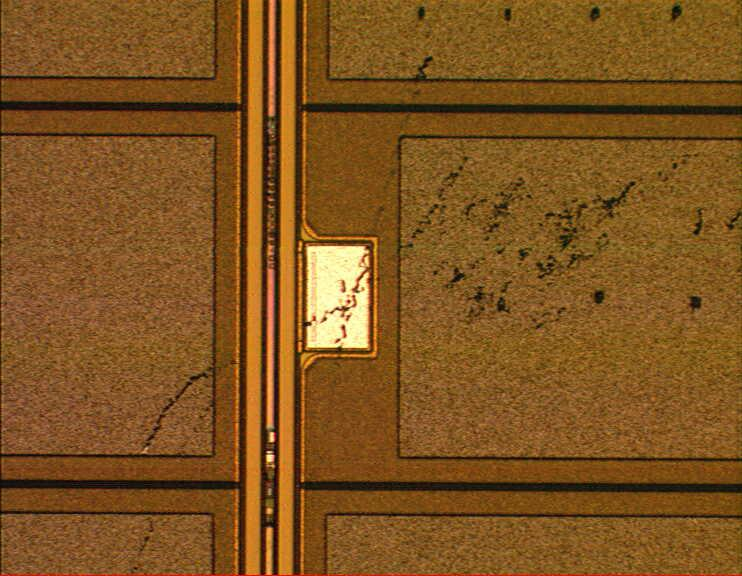SCRATCH: (123, 49, 742, 576)
